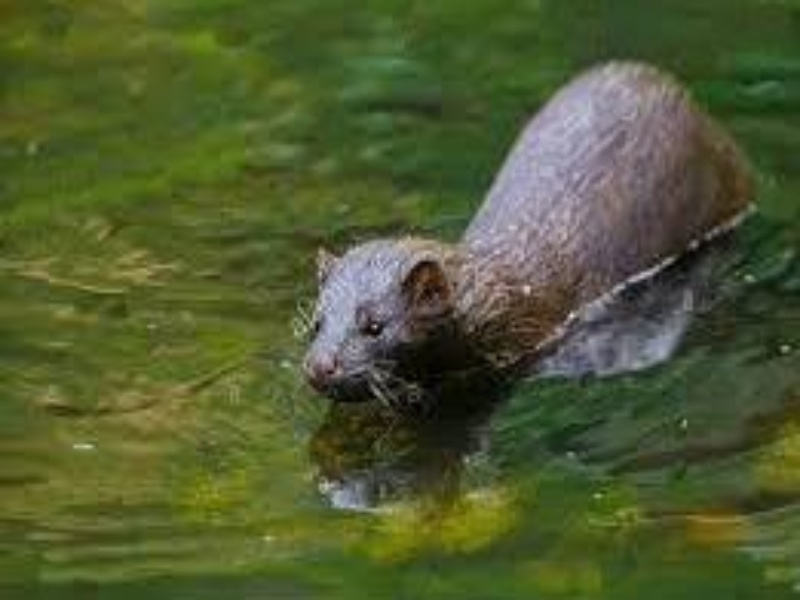minkish: (288, 54, 762, 432)
